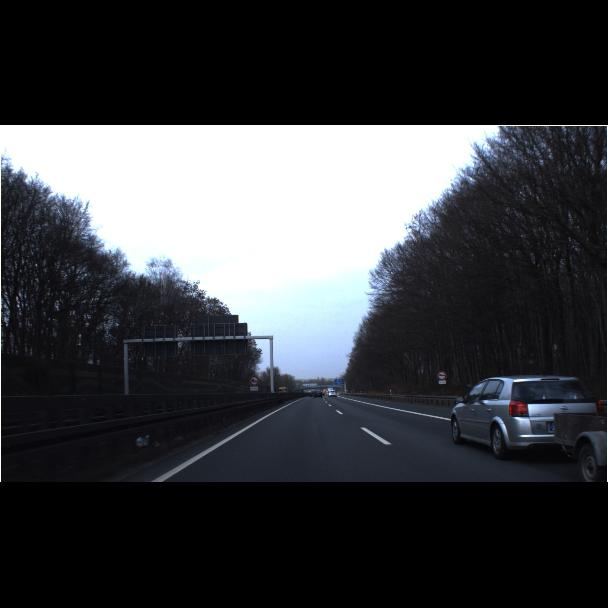no overtaking (trucks): (248, 371, 447, 387)
